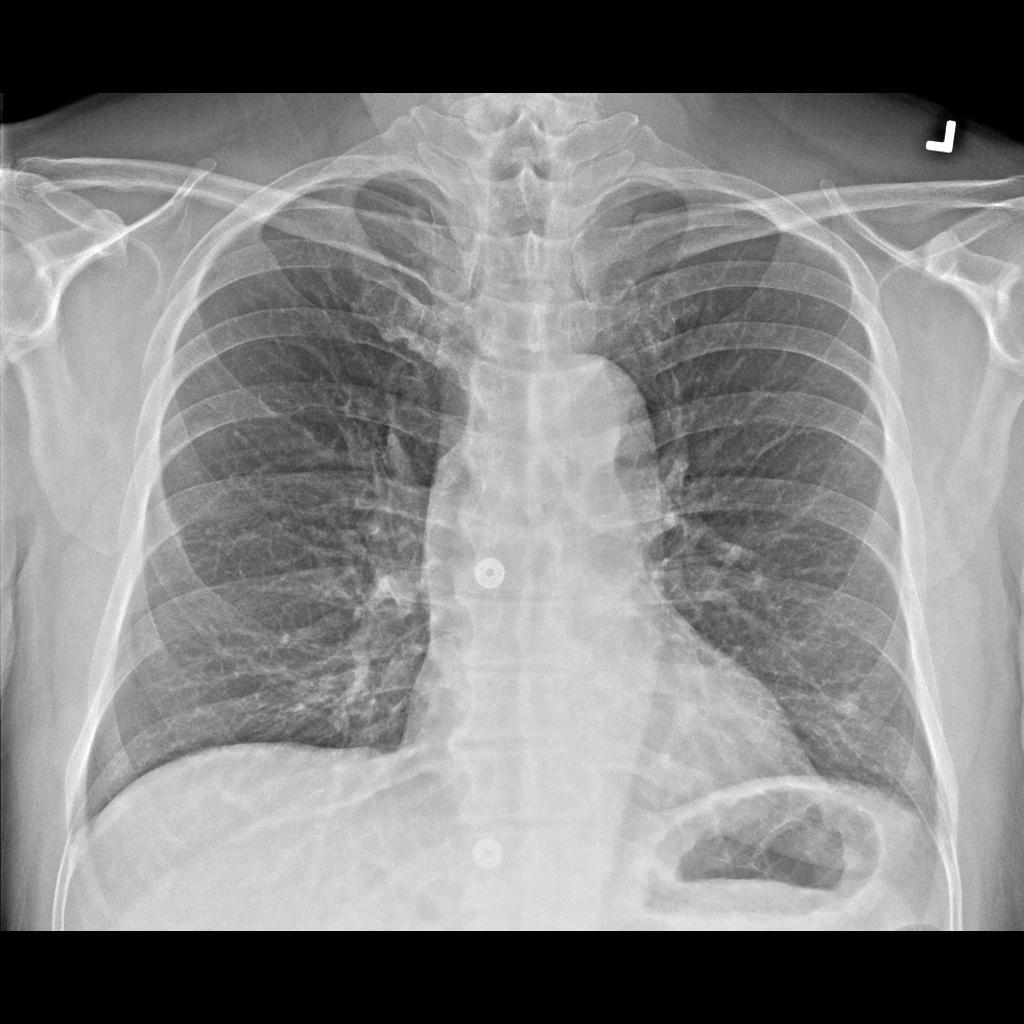Nodule: (835, 686, 866, 720)
